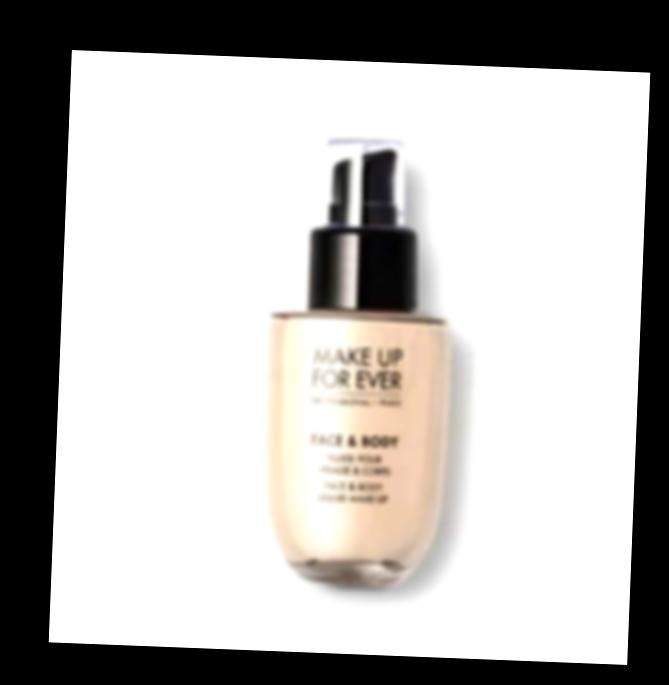cosmetic: (258, 134, 461, 591)
